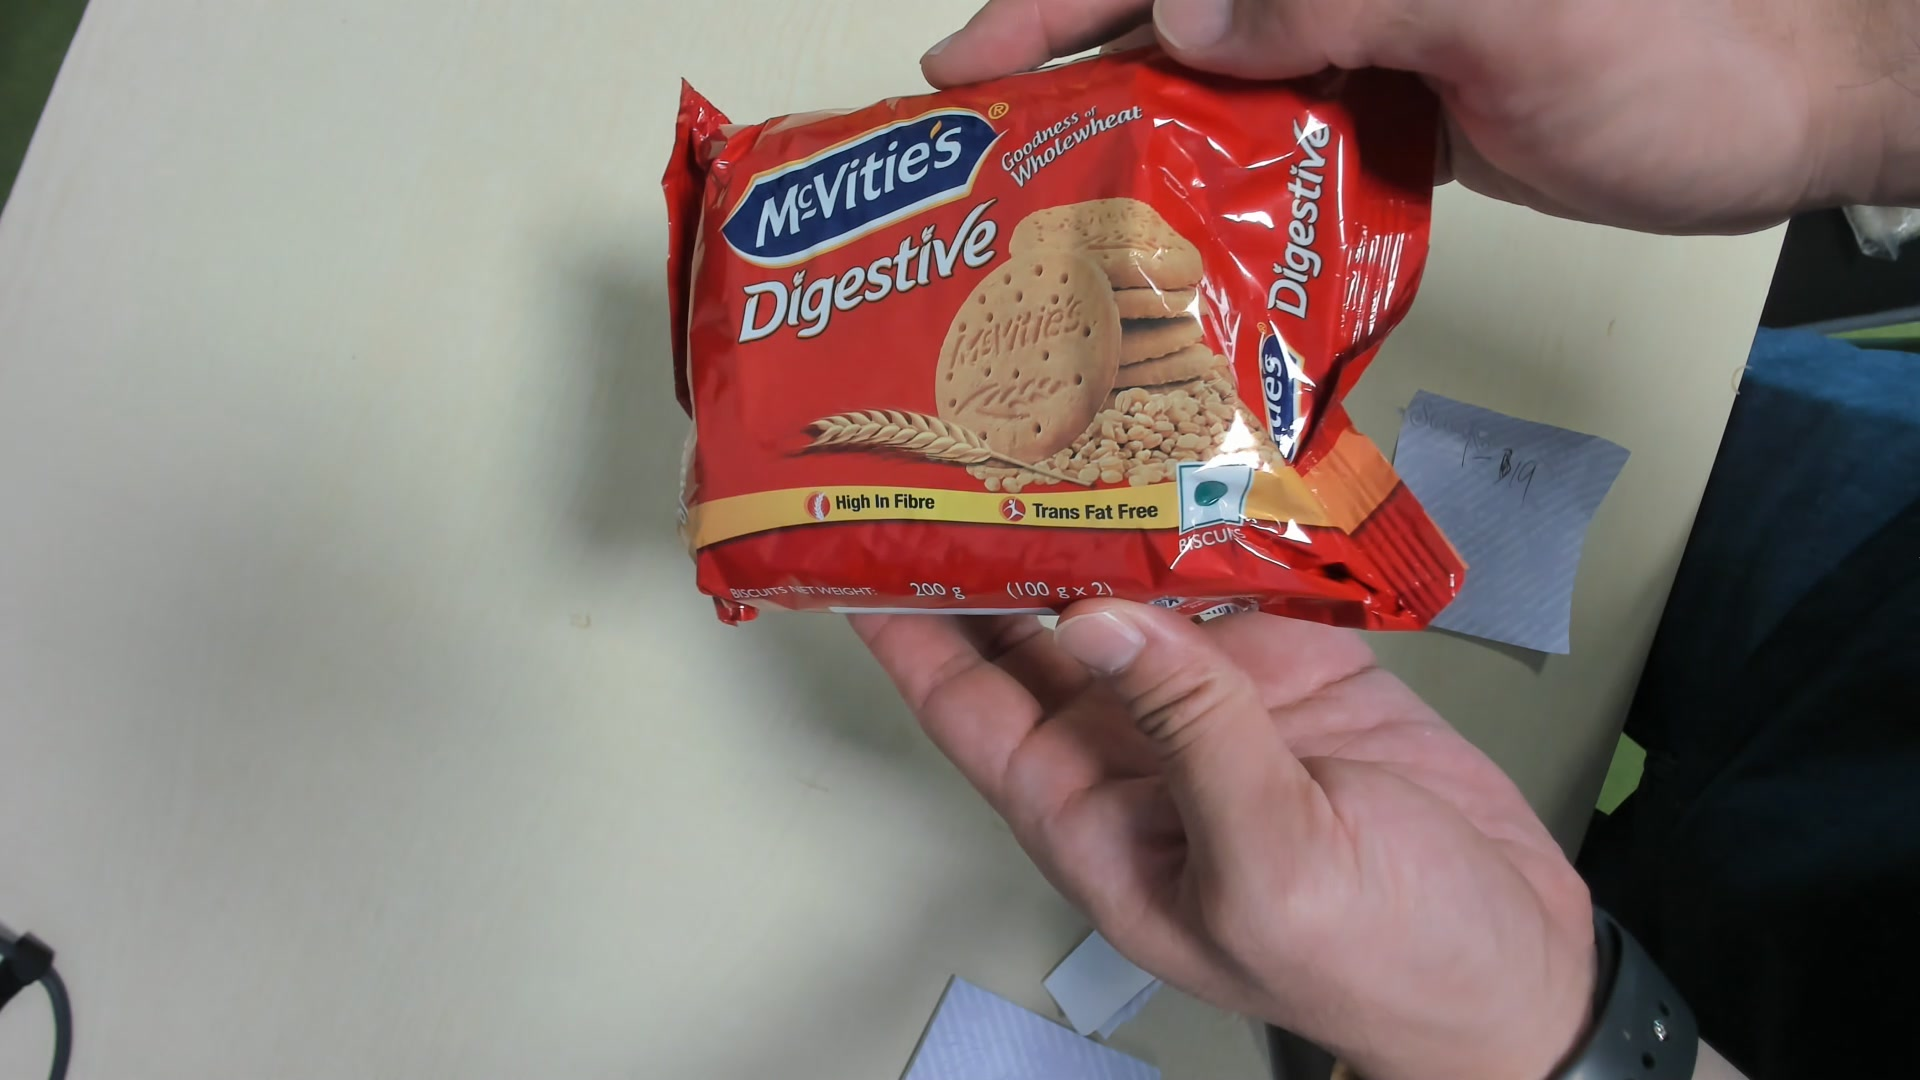BiscuitsCrackersCookies_200-299g_NonHalal_NonHealthy: (663, 61, 1469, 640)
